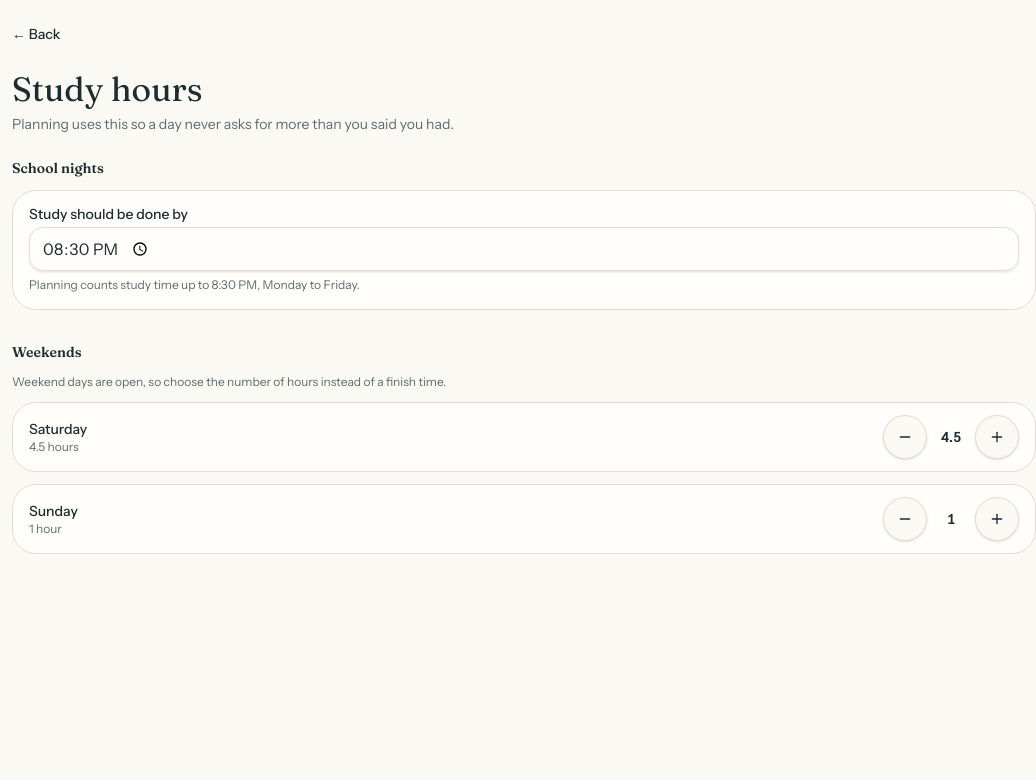
Scenario: PreferencesPage › changing the done-by time saves it straight away; a half-typed (empty) time isn't saved
The width and height of the screenshot is (1036, 780).
Clear the time field labelled "Study should be done by" at (524, 249), box [29,227,1019,271]
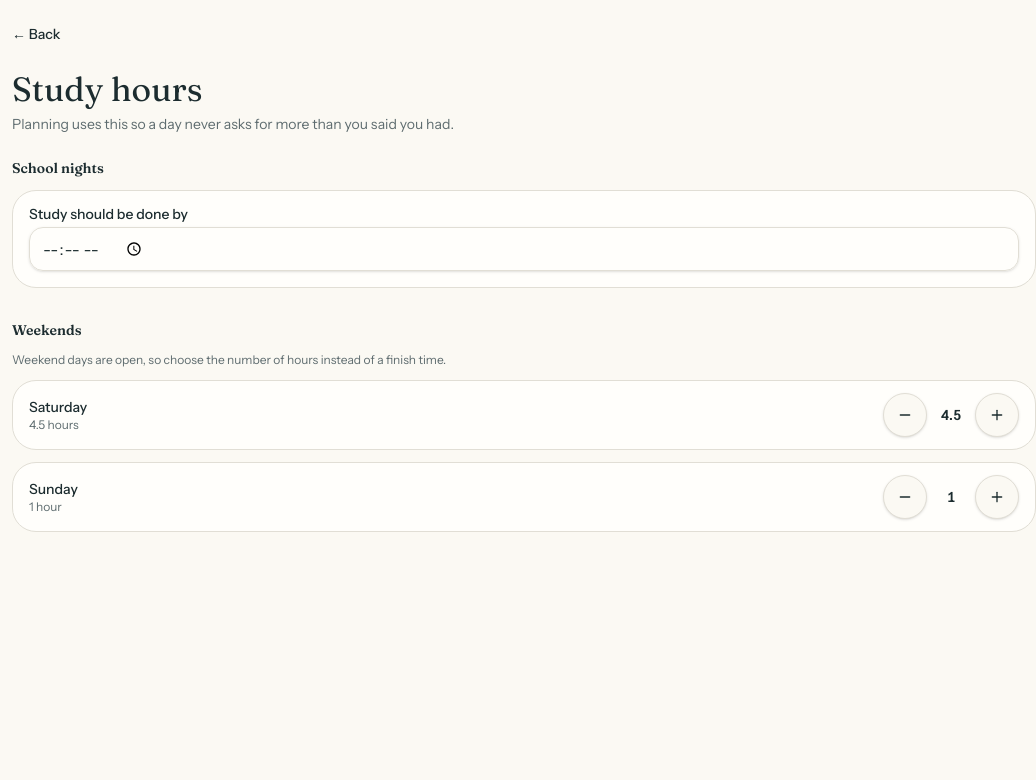
Type "19:00" into the time field labelled "Study should be done by" at (524, 249), box [29,227,1019,271]
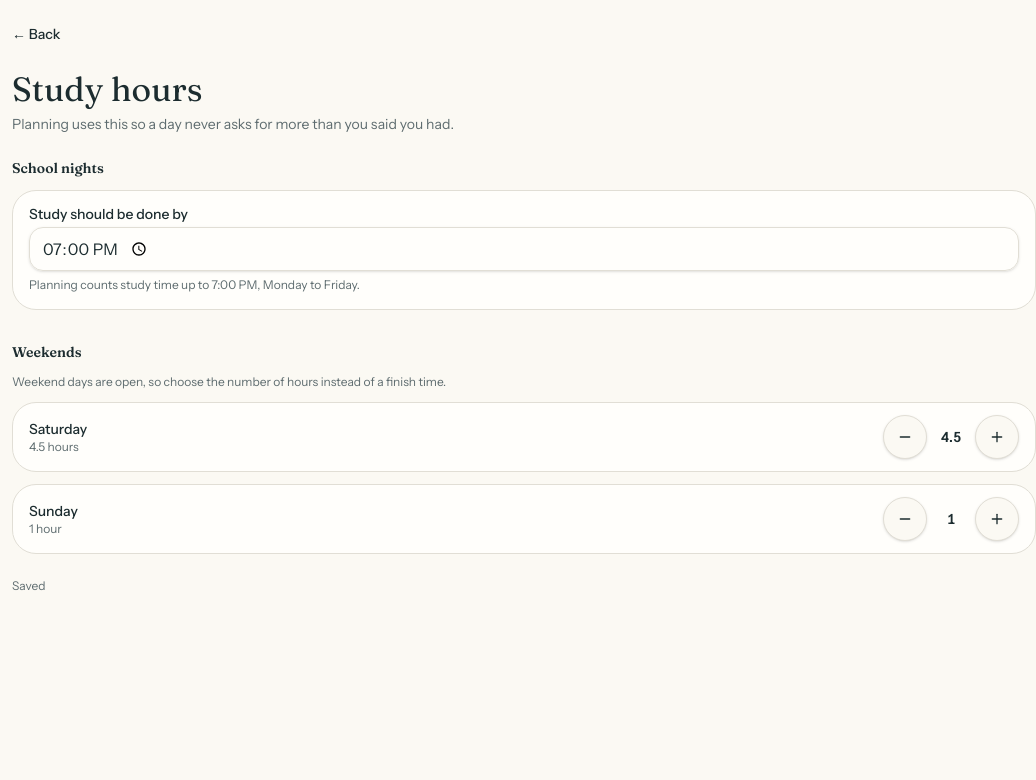
Now the text "Planning counts study time up to 7:00 PM, Monday to Friday." is shown, box [29,277,360,292]
